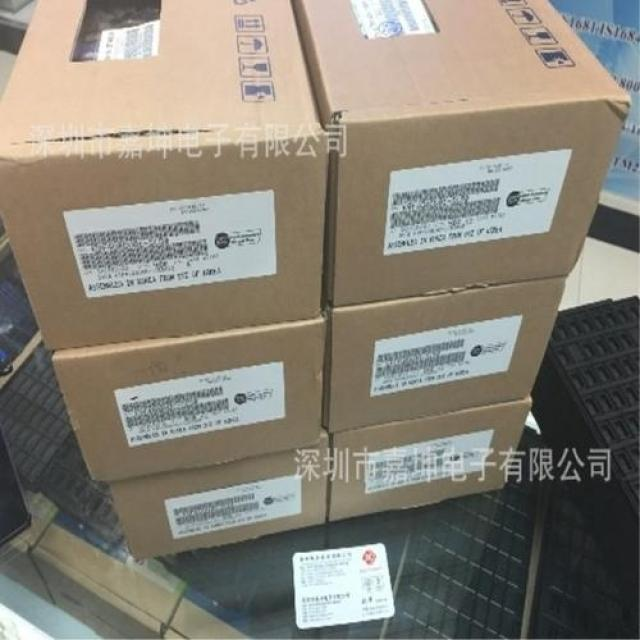box: (294, 0, 632, 306), (51, 312, 326, 483), (325, 278, 567, 431), (109, 431, 330, 562), (329, 397, 532, 521), (33, 511, 189, 639), (0, 492, 60, 604), (165, 585, 262, 639)
